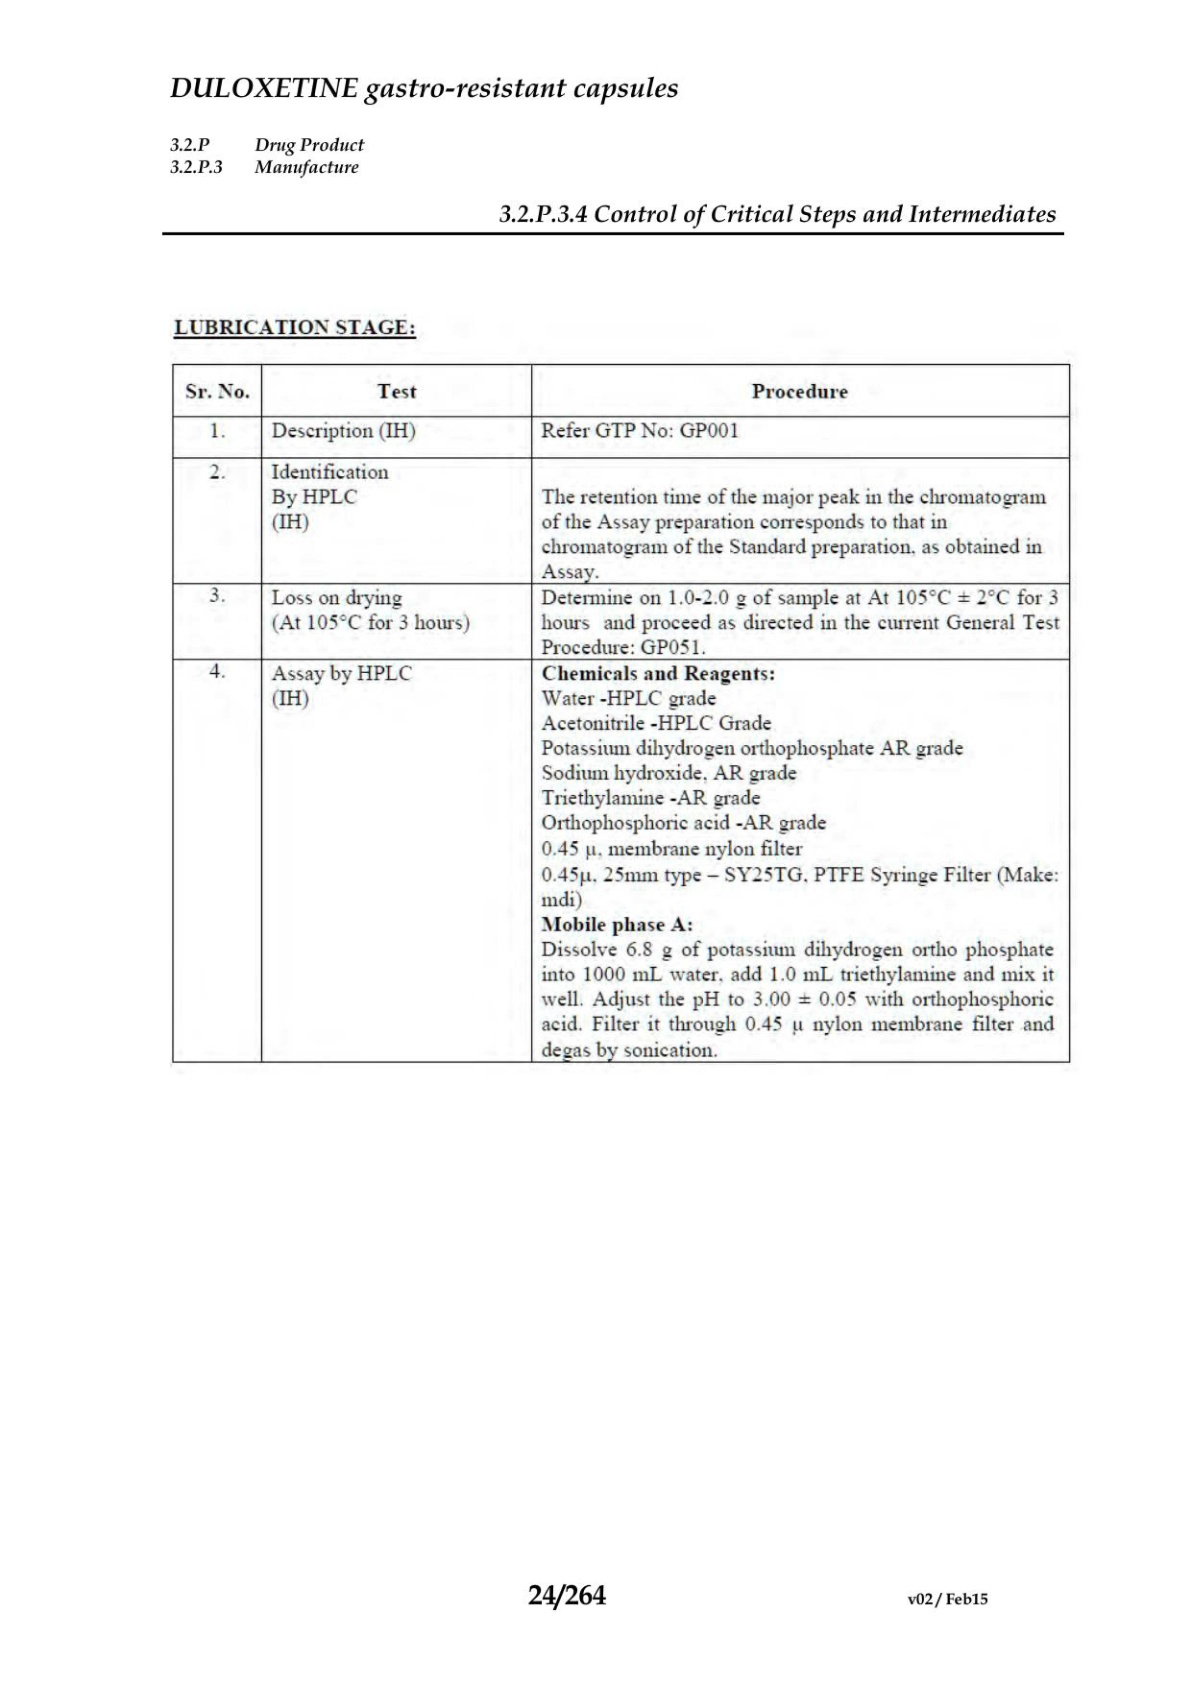full_lined: (172, 363, 1071, 1064)
